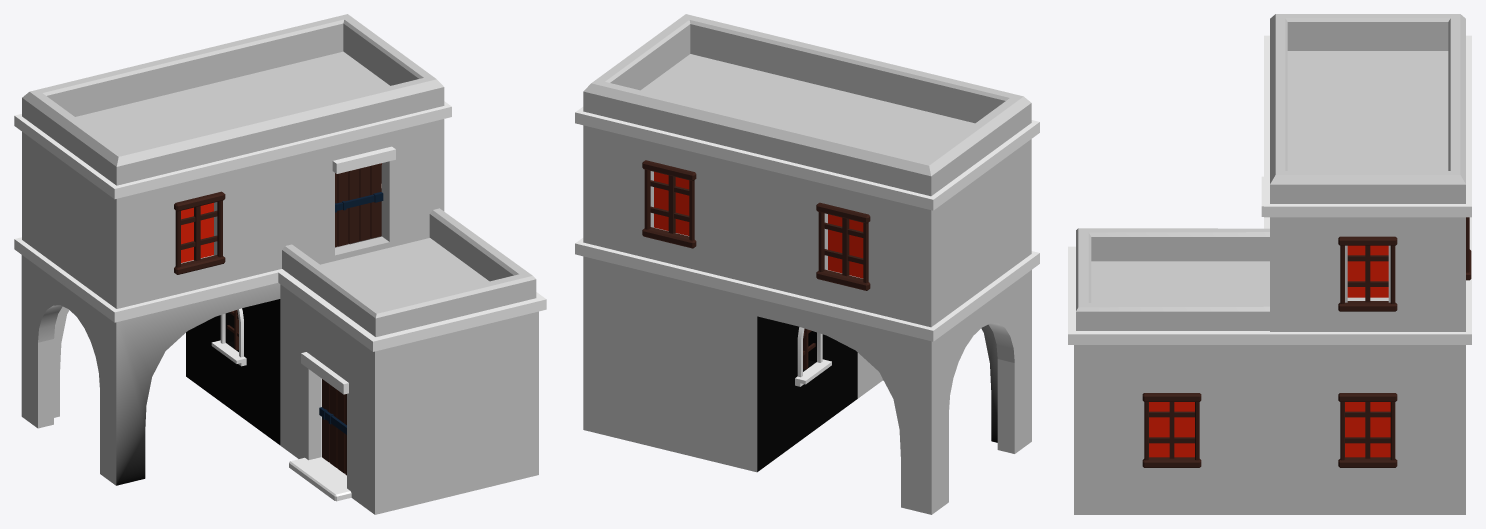
The model's file is civilian_house_33_b.FBX.
The picture shows the model from 3 angles, left to right: view 1: azimuth 30°, elevation 25°; view 2: azimuth 150°, elevation 25°; view 3: azimuth 270°, elevation 25°; orthographic projection. The views are drawn at different scales.
Parts seen in each view (by area): view 1: civilian_house_33_b; view 2: civilian_house_33_b; view 3: civilian_house_33_b.
Part boxes in pixels (<box>): civilian_house_33_b: <box>14,14,546,514</box>; civilian_house_33_b: <box>575,14,1039,514</box>; civilian_house_33_b: <box>1068,14,1471,514</box>.
Bounding box in the file's own units: 1030 × 950 × 1030.
